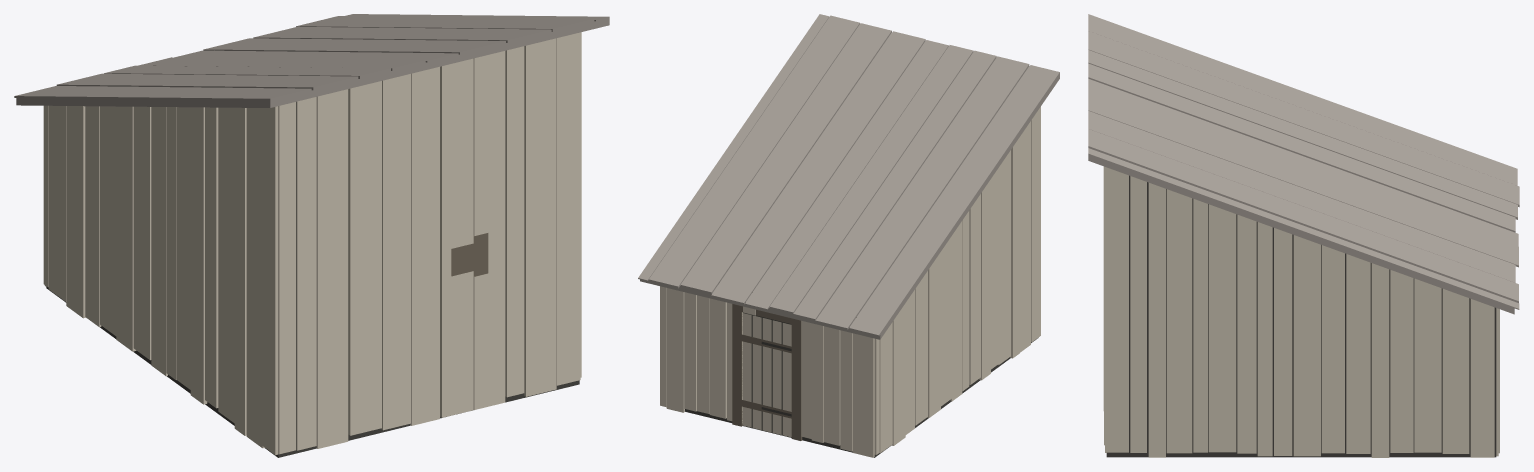
Rendered from recon_1835_west_011__inferred_1835.glb.
3 renders of one model, left to right at view 1: azimuth 30°, elevation 25°; view 2: azimuth 150°, elevation 25°; view 3: azimuth 270°, elevation 25°, orthographic. The views are drawn at different scales.
Parts seen in each view (by area): view 1: recon_1835_west_011__inferred_1835; view 2: recon_1835_west_011__inferred_1835; view 3: recon_1835_west_011__inferred_1835.
Part boxes in pixels (x1=…): recon_1835_west_011__inferred_1835: x1=14, y1=14, x2=609, y2=457; recon_1835_west_011__inferred_1835: x1=638, y1=14, x2=1059, y2=457; recon_1835_west_011__inferred_1835: x1=1088, y1=14, x2=1519, y2=457.
Size of the model in its own units: 4.12 by 4.32 by 5.4.
